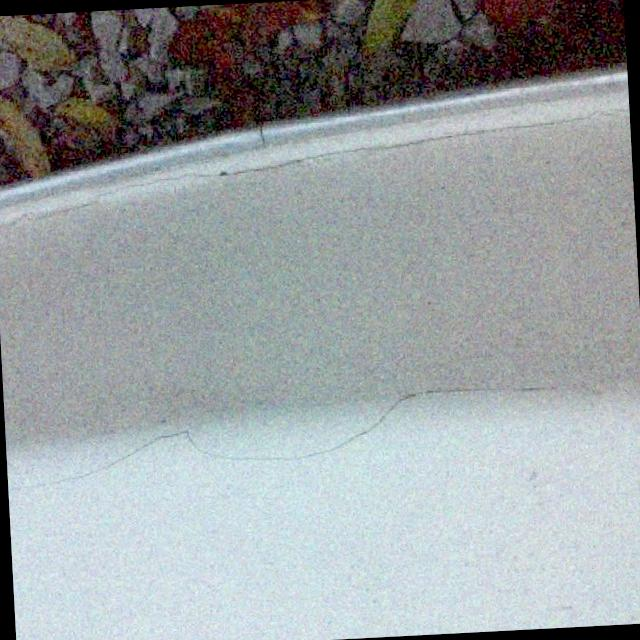crack: (190, 385, 555, 464), (8, 432, 190, 489), (102, 162, 292, 198), (424, 112, 598, 138), (294, 140, 424, 163), (0, 200, 99, 230)
